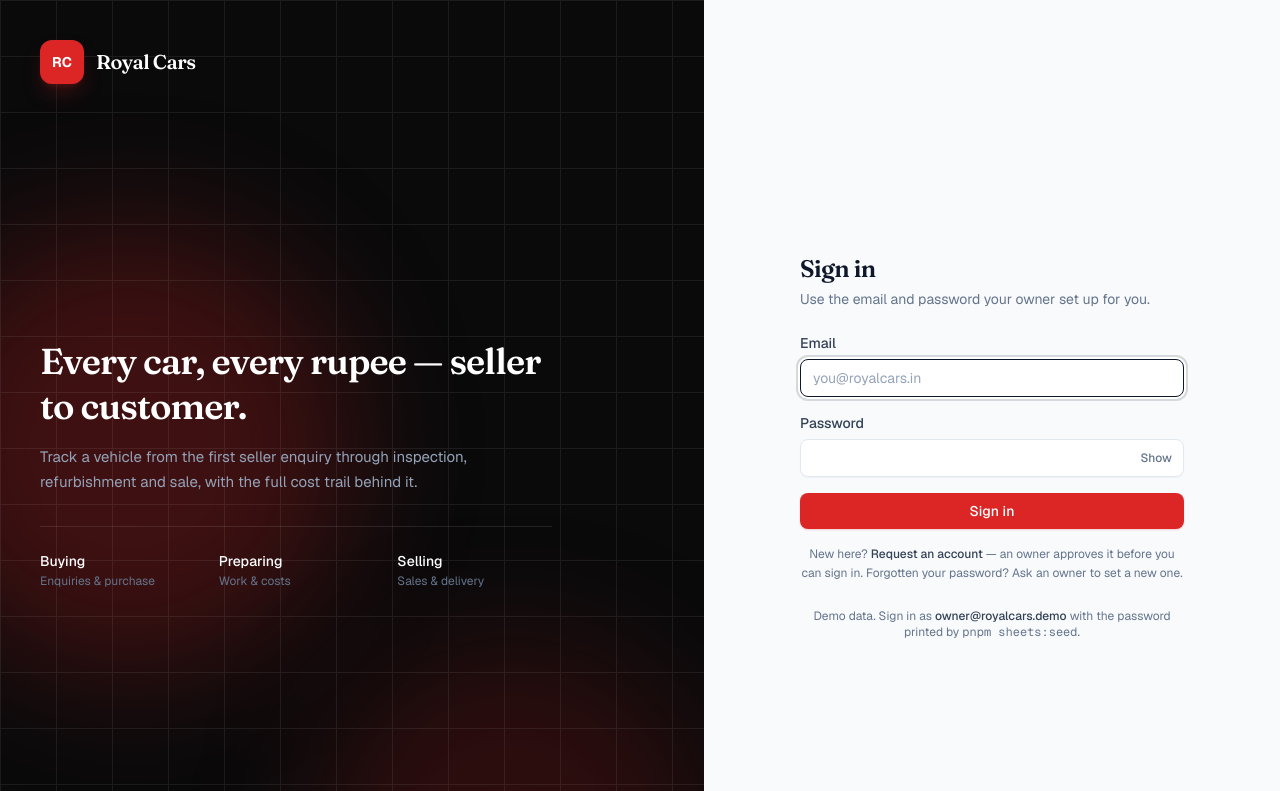
Scenario: Reports and settings › renders settings without wiping stored values on save
Type "owner@royalcars.demo" into the field labelled "Email" at coordinates (992, 378), box [800, 359, 1184, 397]
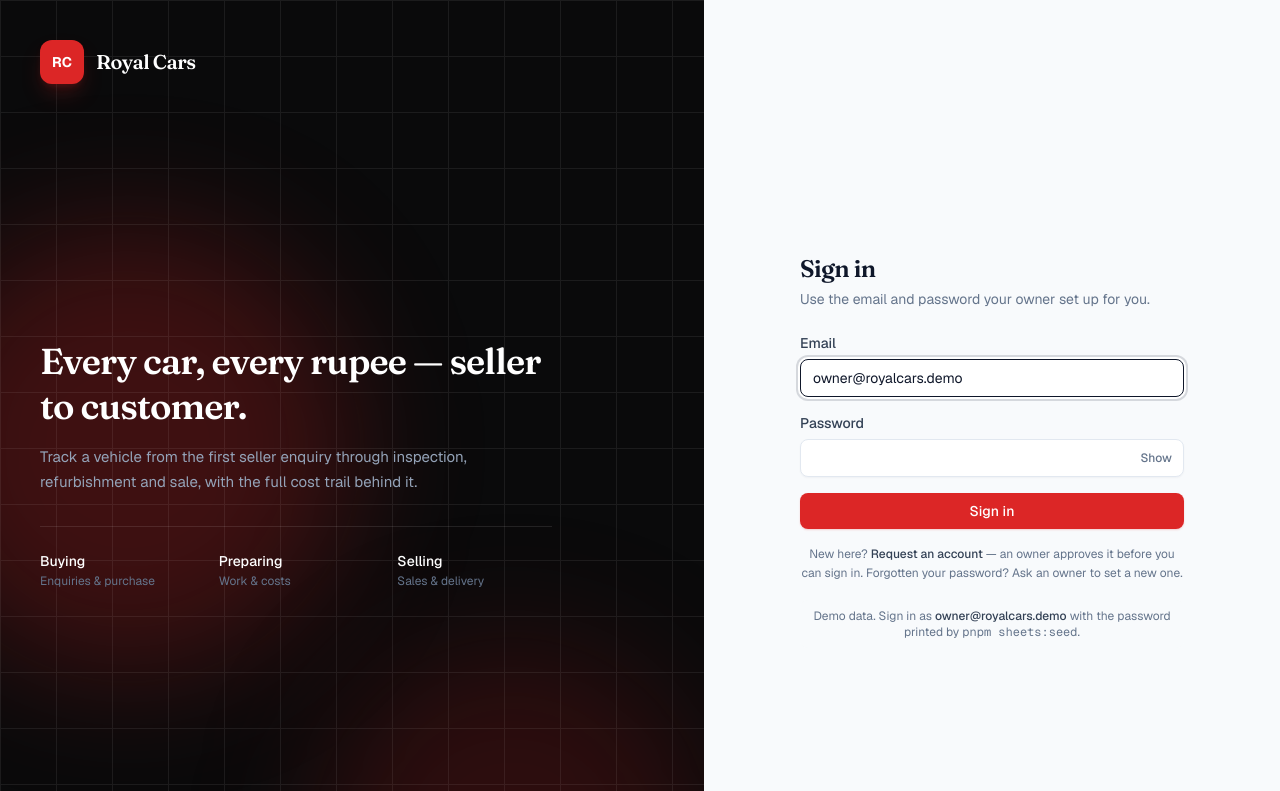
Type "Showroom-Demo-2026" into the password field at coordinates (992, 458), box [800, 439, 1184, 477]
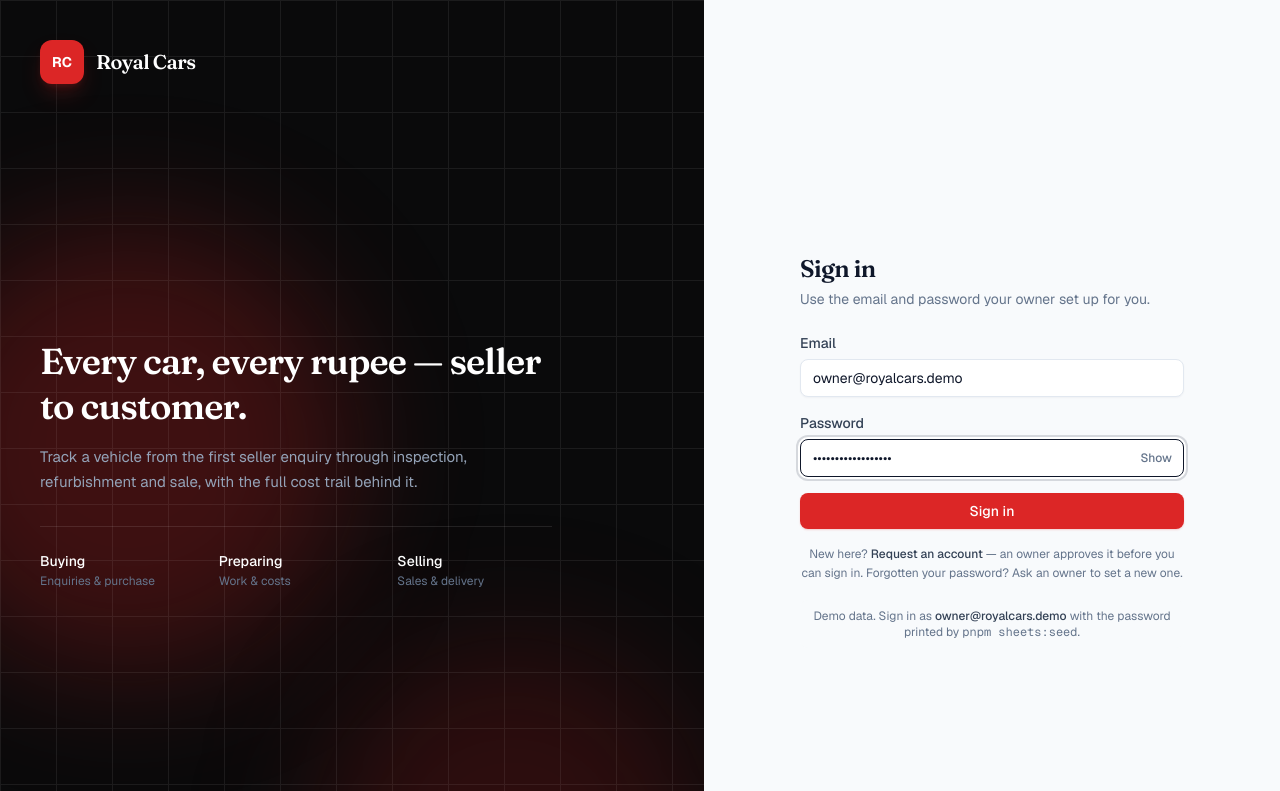
Click the submit button at coordinates (992, 511), box [800, 493, 1184, 529]
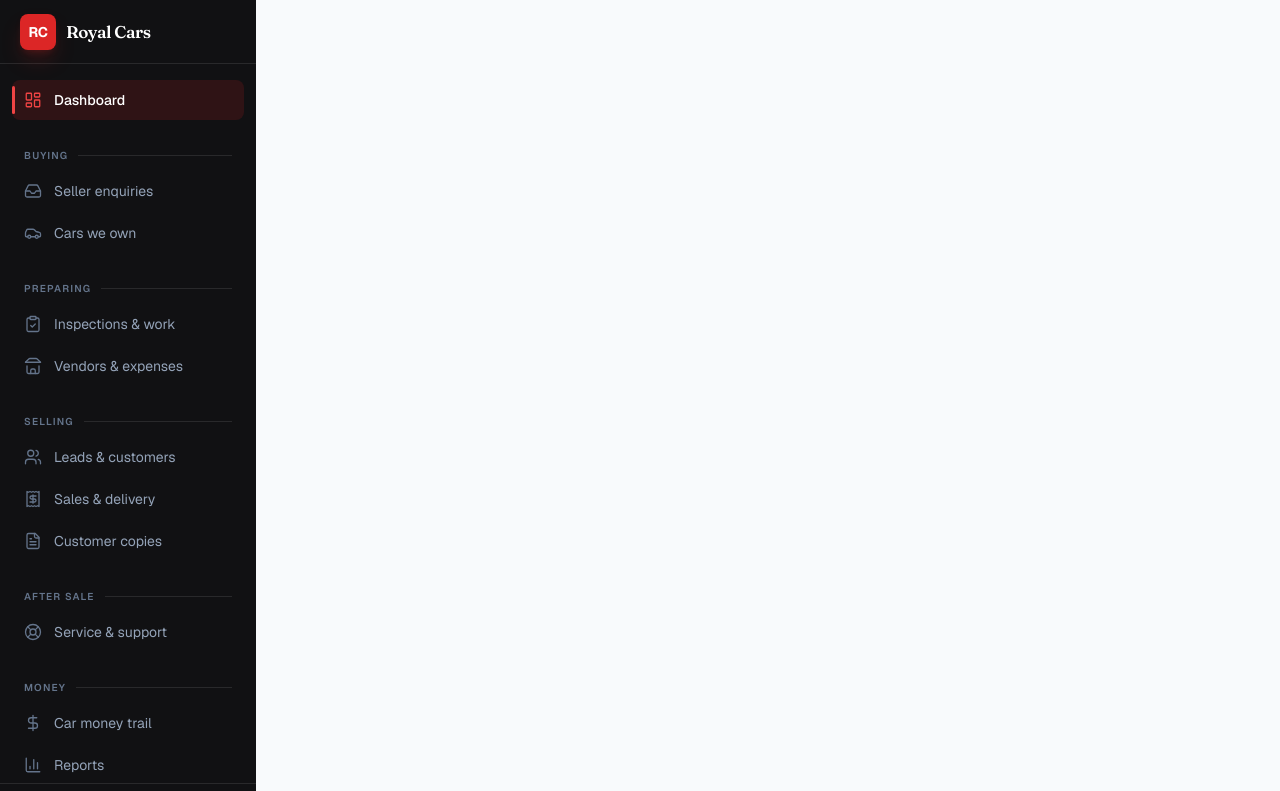
Open "/settings"
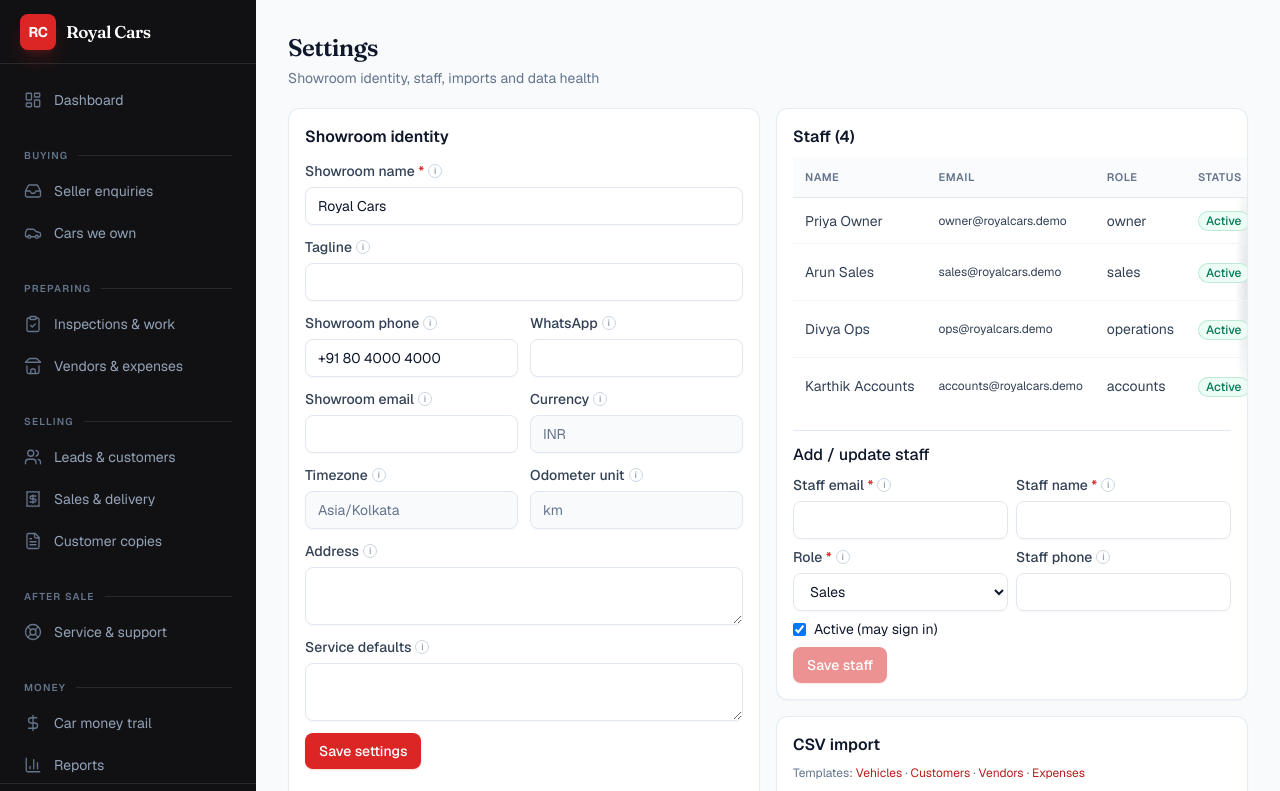
Expected: the heading "Settings" is shown, [288, 33, 378, 62]
